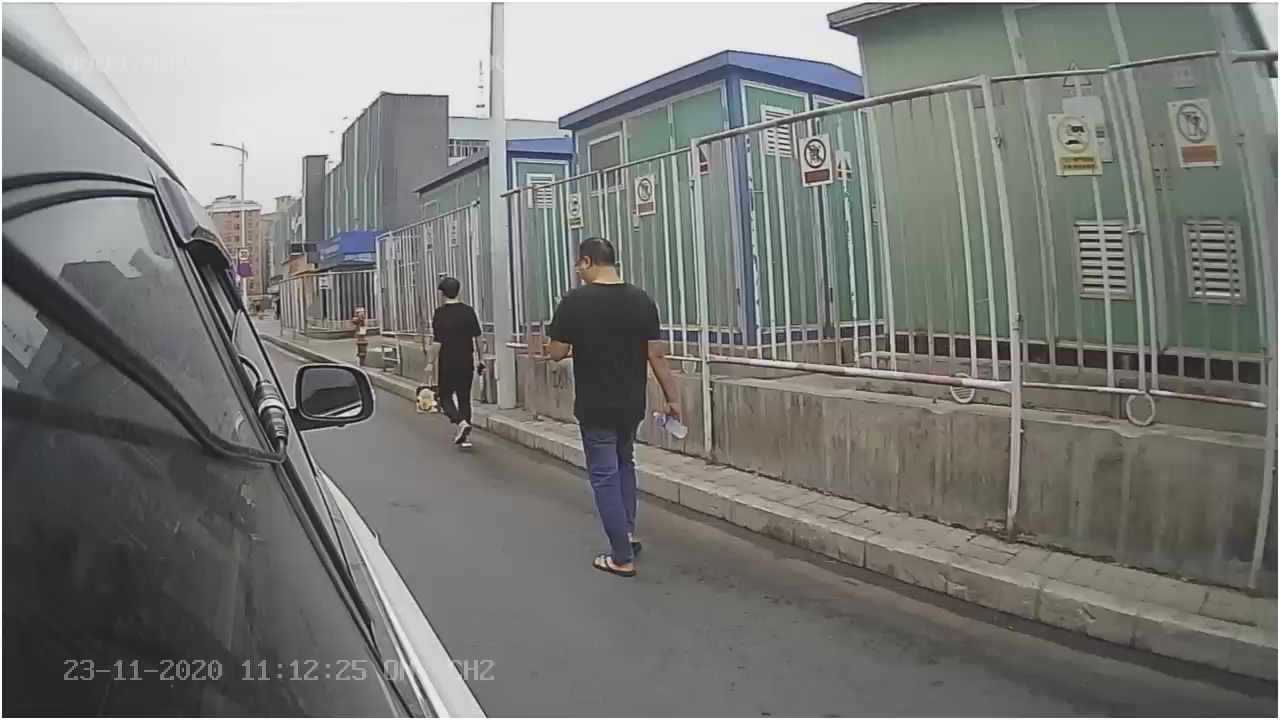person: (540, 223, 688, 578)
